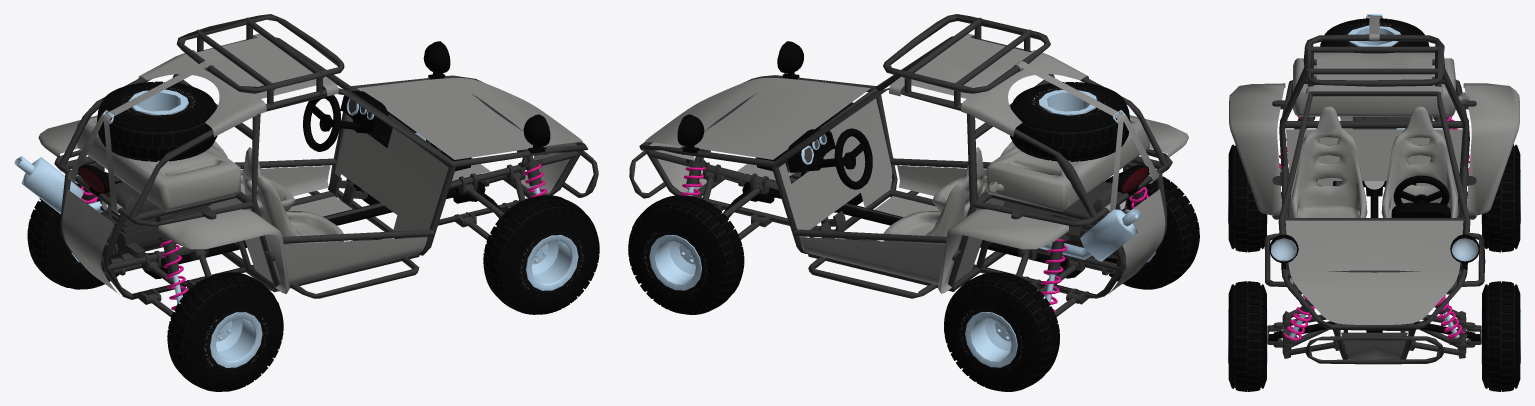
The model's file is viper_turbo.glb.
3 renders of one model, left to right at view 1: azimuth 30°, elevation 25°; view 2: azimuth 150°, elevation 25°; view 3: azimuth 270°, elevation 25°, orthographic. The views are drawn at different scales.
Visible parts, largest first — view 1: Plane.006_diffuse_0, Plane.007_hull_tubes_0, Cube.006_rubber_0, Cube.002_rubber_0, Cube.003_rubber_0, Cylinder.146_Black_plastic_0, Cube.005_rubber_0, BezierCircle.009_chroma_0, Cylinder.122_chroma_0, Cylinder.009_chroma_0, Cylinder.002_transmission_parts_0, NurbsCircle_Black_plastic_0 (+1 smaller); view 2: Plane.006_diffuse_0, Plane.007_hull_tubes_0, Cube.005_rubber_0, Cube.004_rubber_0, Cube.003_rubber_0, Cube.006_rubber_0, Cylinder.146_Black_plastic_0, BezierCircle.009_chroma_0, Cylinder.123_chroma_0, Cylinder.136_chroma_0, Cylinder.002_transmission_parts_0, NurbsCircle_Black_plastic_0 (+1 smaller); view 3: Plane.006_diffuse_0, Plane.007_hull_tubes_0, Cube.002_rubber_0, Cube.004_rubber_0, Cube.006_rubber_0, Cube.005_rubber_0, BezierCircle.009_chroma_0, Cylinder.146_Black_plastic_0, Cube.003_rubber_0, Cylinder.002_transmission_parts_0, BezierCircle.003_spring_0, Sphere_white_glass_0 (+4 smaller).
Boxes of the visible parts, x1,y1,x2,y2 form: Plane.006_diffuse_0: (38,33,582,294); Plane.007_hull_tubes_0: (54,14,598,316); Cube.006_rubber_0: (167,272,283,391); Cube.002_rubber_0: (483,195,599,314); Cube.003_rubber_0: (97,81,217,161); Cylinder.146_Black_plastic_0: (78,41,550,196); Cube.005_rubber_0: (27,171,123,289); BezierCircle.009_chroma_0: (14,89,540,303); Cylinder.122_chroma_0: (209,312,262,367); Cylinder.009_chroma_0: (525,235,578,290); Cylinder.002_transmission_parts_0: (142,134,504,295); NurbsCircle_Black_plastic_0: (303,95,340,151); Plane.006_diffuse_0: (645,33,1188,293); Plane.007_hull_tubes_0: (629,14,1172,316); Cube.005_rubber_0: (944,272,1059,391); Cube.004_rubber_0: (628,195,744,314); Cube.003_rubber_0: (1010,82,1130,161); Cube.006_rubber_0: (1103,172,1199,289); Cylinder.146_Black_plastic_0: (677,41,1148,195); BezierCircle.009_chroma_0: (686,90,1141,306); Cylinder.123_chroma_0: (965,312,1017,367); Cylinder.136_chroma_0: (649,235,701,290); Cylinder.002_transmission_parts_0: (722,170,1085,289); NurbsCircle_Black_plastic_0: (834,128,872,189); Plane.006_diffuse_0: (1229,16,1519,359); Plane.007_hull_tubes_0: (1264,34,1485,364); Cube.002_rubber_0: (1228,281,1266,391); Cube.004_rubber_0: (1482,281,1520,391); Cube.006_rubber_0: (1228,144,1266,252); Cube.005_rubber_0: (1482,144,1520,252); BezierCircle.009_chroma_0: (1271,14,1478,338); Cylinder.146_Black_plastic_0: (1269,191,1479,269); Cube.003_rubber_0: (1320,18,1429,53); Cylinder.002_transmission_parts_0: (1273,181,1475,338); BezierCircle.003_spring_0: (1279,116,1469,340); Sphere_white_glass_0: (1271,238,1477,260).
Size of the model in its own units: 3.66 by 1.77 by 1.99.
11 materials, 1 textured.
